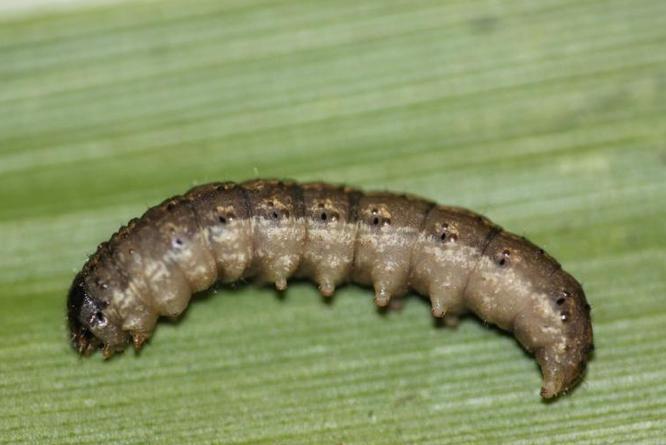caterpillars: (38, 134, 619, 421)
